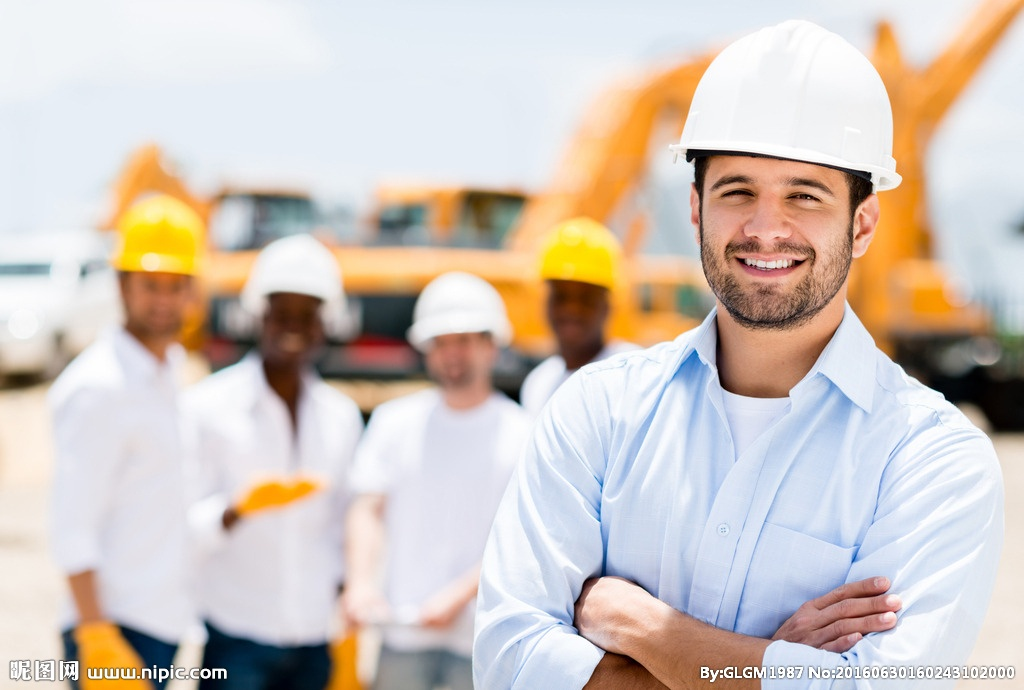white: (675, 18, 904, 330), (237, 233, 344, 371), (403, 267, 511, 393)
yellow: (105, 192, 212, 338), (531, 215, 628, 357)
